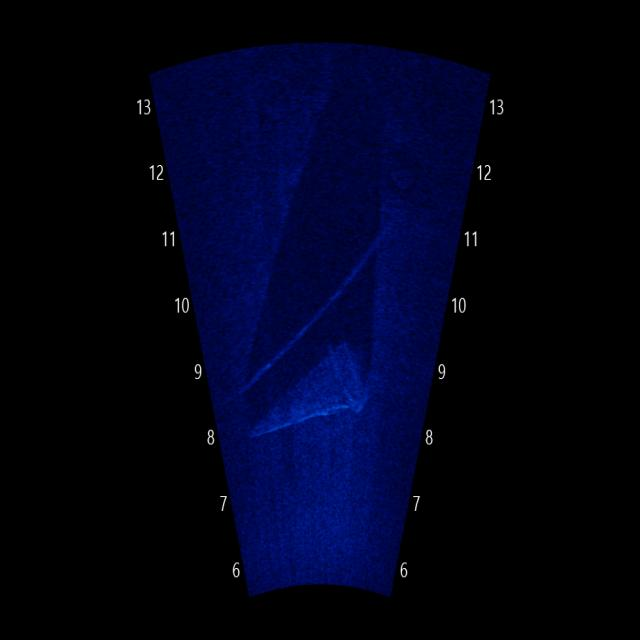circle: (249, 72, 297, 132), (384, 138, 422, 203)
triangle: (245, 320, 391, 451)
